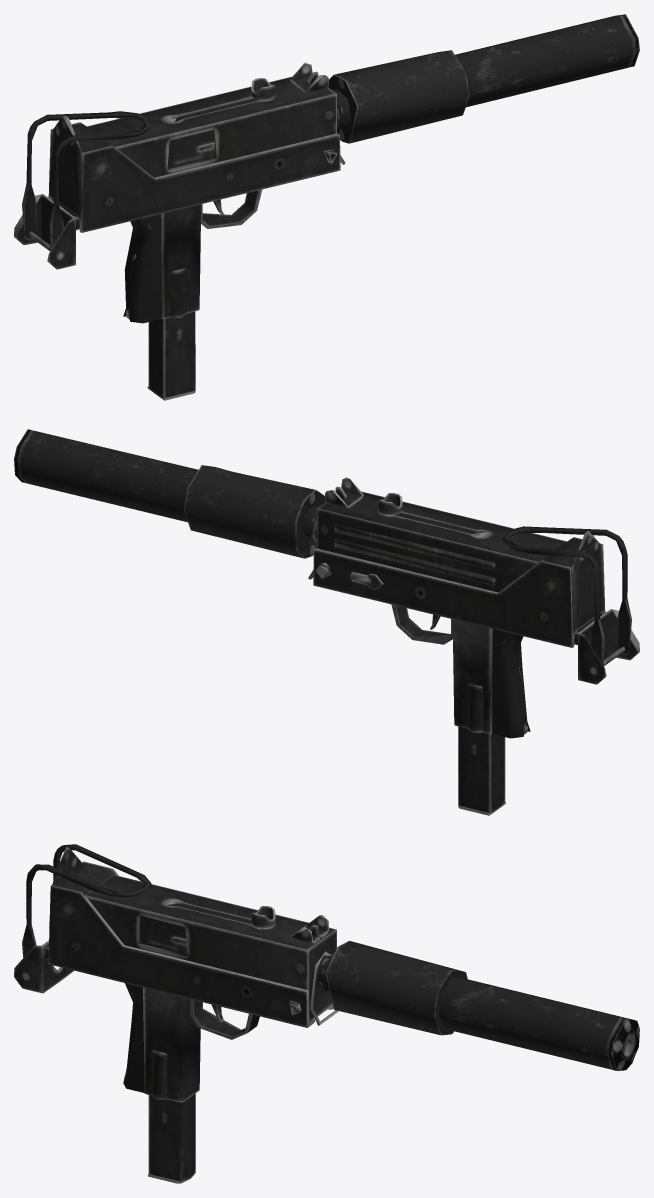
Rendered from dualmac_lod1.glb.
The picture shows the model from 3 angles, top to bottom: view 1: azimuth 30°, elevation 25°; view 2: azimuth 150°, elevation 25°; view 3: azimuth 330°, elevation 25°; orthographic projection.
Parts seen in each view (by area): view 1: base, silencer, mag, base_4, base_3, base_5; view 2: base, silencer, mag, base_4, base_3; view 3: base, silencer, mag, base_4, base_3, base_5.
Boxes of the visible parts, left/top/right/bottom form: base: left=48, top=62, right=345, bottom=323; silencer: left=328, top=14, right=639, bottom=143; mag: left=147, top=311, right=195, bottom=400; base_4: left=22, top=111, right=151, bottom=250; base_3: left=14, top=194, right=79, bottom=269; base_5: left=167, top=130, right=215, bottom=168; base: left=308, top=477, right=605, bottom=738; silencer: left=14, top=429, right=325, bottom=558; mag: left=458, top=726, right=505, bottom=815; base_4: left=502, top=526, right=631, bottom=665; base_3: left=574, top=609, right=639, bottom=684; base: left=48, top=847, right=338, bottom=1102; silencer: left=322, top=940, right=639, bottom=1070; mag: left=148, top=1093, right=195, bottom=1183; base_4: left=22, top=844, right=151, bottom=957; base_3: left=14, top=940, right=73, bottom=993; base_5: left=139, top=916, right=187, bottom=954.
Bounding box in the file's own units: 0.5142 × 0.246 × 0.0596.
3 materials, 3 textured.
